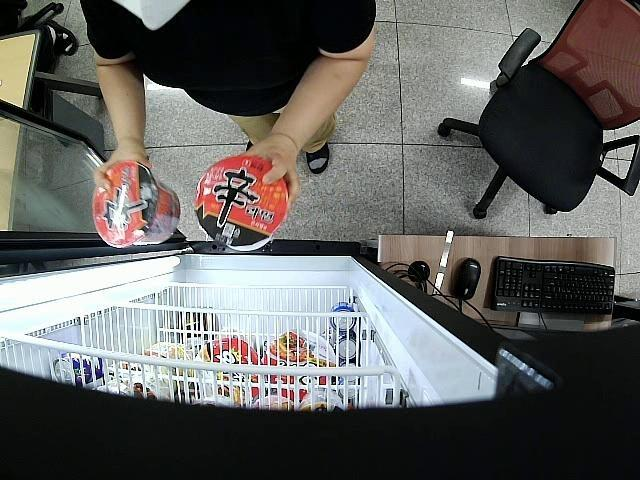01_ShinRamen_L: (195, 156, 288, 252), (92, 162, 181, 248)
